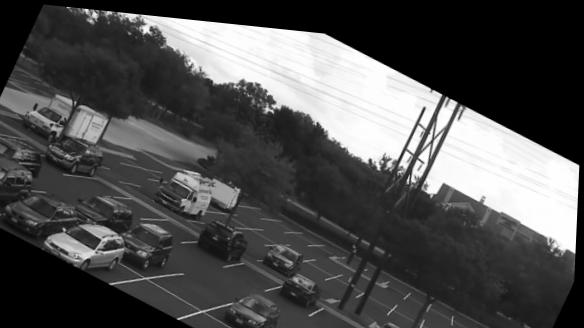empty: (154, 251, 236, 302), (121, 280, 198, 315), (309, 298, 367, 328), (115, 191, 167, 216), (230, 258, 280, 283), (183, 309, 241, 328), (155, 210, 198, 234), (69, 174, 125, 192), (357, 286, 398, 308), (324, 269, 365, 290), (339, 264, 376, 285), (389, 302, 424, 324), (395, 292, 426, 315), (34, 176, 74, 193), (404, 282, 436, 303), (425, 305, 454, 328), (238, 223, 275, 241), (127, 162, 171, 177), (368, 279, 401, 298), (314, 249, 348, 267), (259, 219, 292, 237), (304, 254, 336, 272), (431, 292, 455, 315), (385, 272, 415, 290), (289, 236, 322, 252), (233, 207, 266, 221), (244, 232, 267, 252), (210, 208, 248, 220), (314, 236, 349, 249), (455, 305, 478, 324), (419, 315, 449, 328), (288, 225, 320, 237), (317, 274, 337, 291), (245, 201, 275, 212), (0, 122, 23, 136), (267, 214, 296, 225), (297, 319, 323, 328), (481, 319, 498, 328), (454, 320, 473, 328)
occupied: (43, 221, 129, 275), (0, 190, 79, 238), (155, 167, 215, 214), (45, 130, 105, 176), (222, 287, 282, 328), (124, 220, 176, 267), (195, 215, 250, 258), (75, 192, 136, 229), (0, 157, 34, 209), (0, 136, 43, 172), (281, 267, 324, 302), (265, 239, 306, 271), (374, 315, 409, 328)
